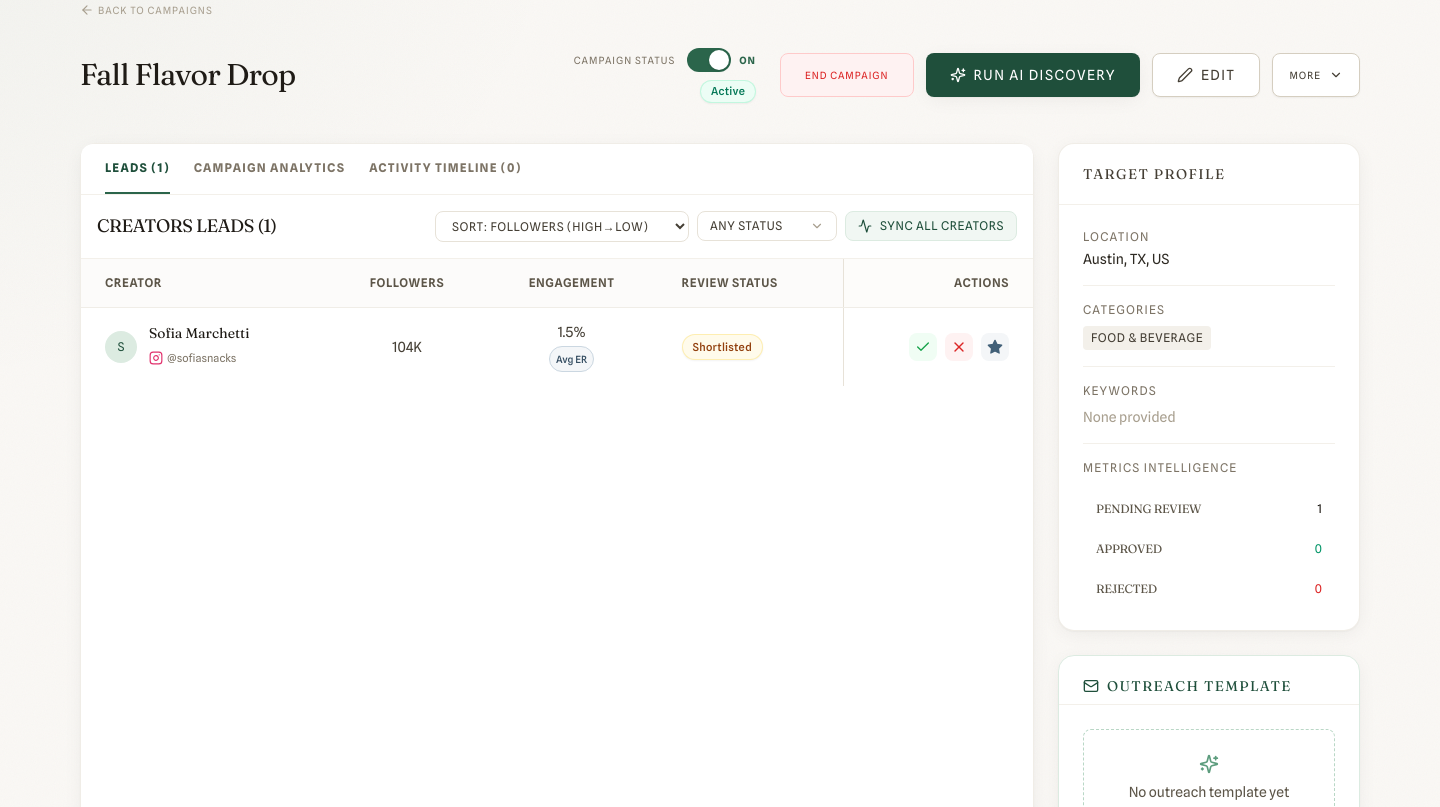
Scenario: CampaignDetail approve › sends this campaign for a creator who is also in another one
The image size is (1440, 807).
Step 1. Click the button titled "Approve & Send Outreach" → x=923, y=346, box [909, 332, 937, 360]
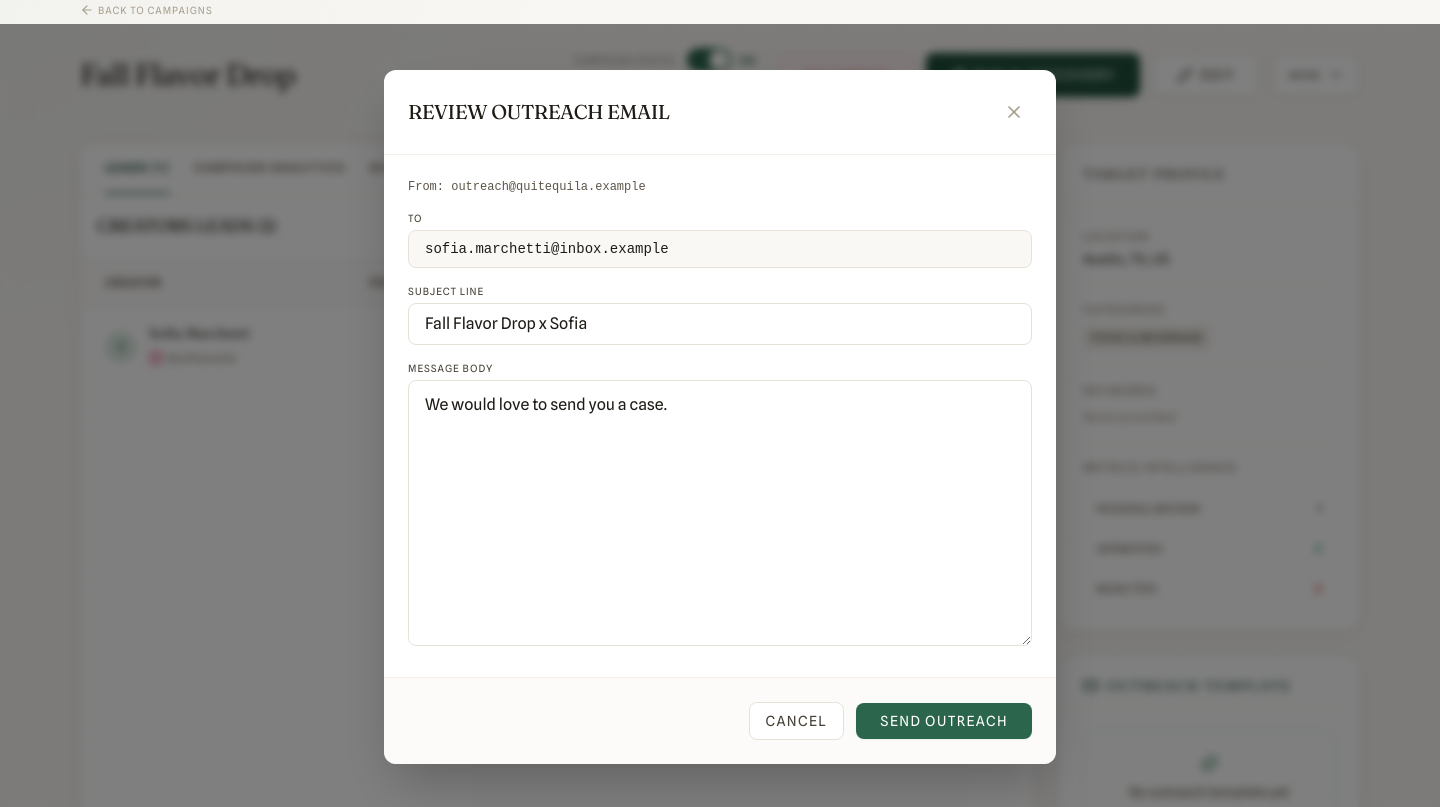
Now the text "From: outreach@quitequila.example" is shown, box [408, 180, 646, 194]
Step 2. Click the button "Send Outreach" → x=944, y=721, box [856, 703, 1032, 739]
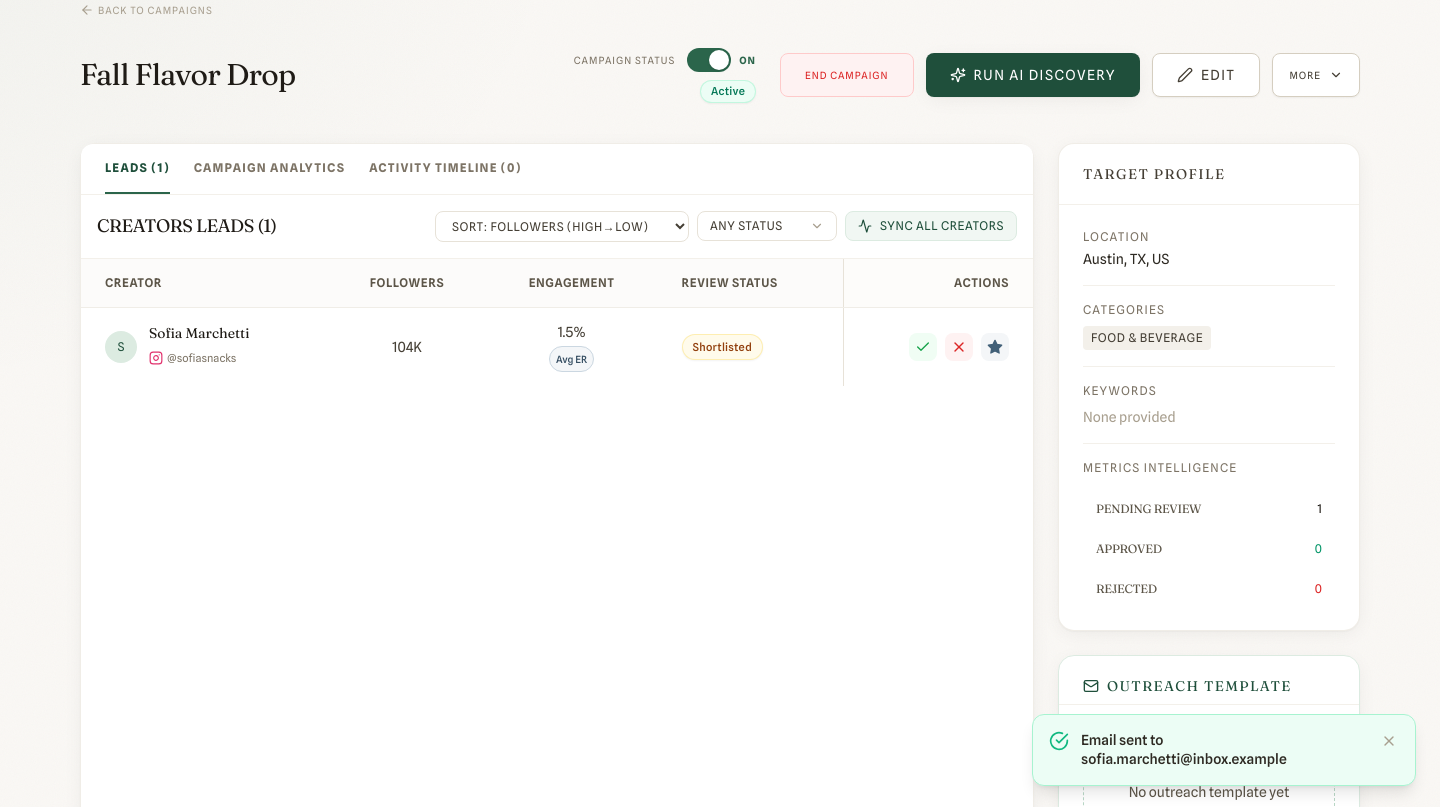
Now the text "Email sent to sofia.marchetti@inbox.example" is shown, box [1081, 732, 1287, 767]
